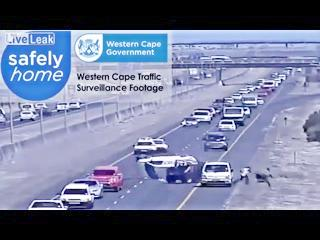Car: (138, 153, 196, 178), (165, 160, 203, 184), (60, 183, 95, 209), (201, 161, 234, 187), (90, 166, 123, 192), (27, 199, 68, 210), (134, 137, 156, 156), (224, 106, 243, 126), (204, 135, 229, 148), (191, 109, 212, 123), (149, 138, 168, 151), (20, 109, 39, 121), (218, 119, 237, 131), (181, 117, 200, 127), (198, 107, 216, 117), (55, 101, 69, 112), (69, 99, 82, 109), (243, 96, 256, 106), (211, 102, 224, 112), (34, 102, 48, 111), (21, 103, 35, 112), (223, 97, 235, 105), (257, 90, 269, 98), (0, 108, 6, 123), (231, 93, 243, 100), (212, 99, 224, 106), (238, 88, 249, 95), (243, 107, 251, 116), (246, 85, 255, 92), (256, 79, 265, 86), (256, 98, 265, 105), (278, 74, 286, 81), (285, 67, 293, 74), (203, 72, 212, 78), (270, 72, 278, 78), (191, 75, 200, 80), (176, 79, 183, 85), (297, 68, 302, 72)
Major Accident: (137, 152, 207, 188)
